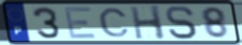3: (31, 5, 62, 39)
8: (199, 5, 231, 39)
C: (97, 7, 132, 39)
E: (62, 6, 99, 40)
H: (128, 5, 167, 41)
S: (164, 5, 199, 41)
